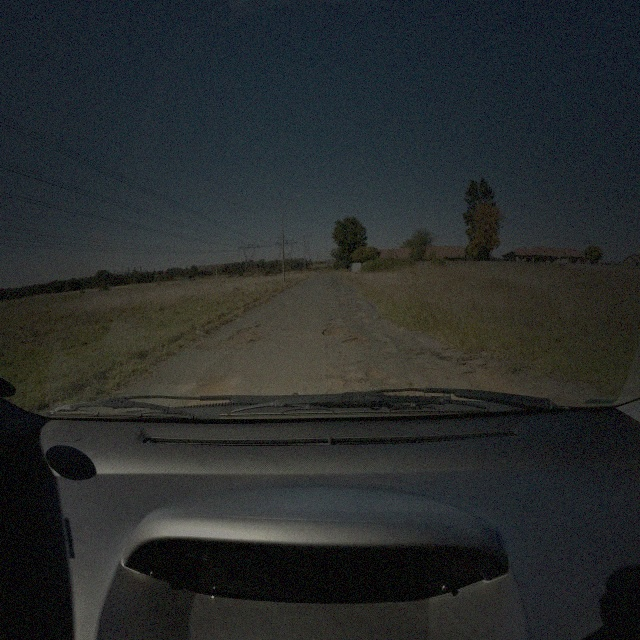pothole: (195, 321, 268, 352), (465, 361, 510, 392), (364, 365, 390, 384), (347, 327, 371, 347), (322, 321, 353, 336)
